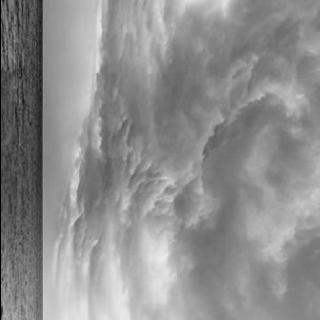Nimbostratus: (57, 0, 320, 320)
